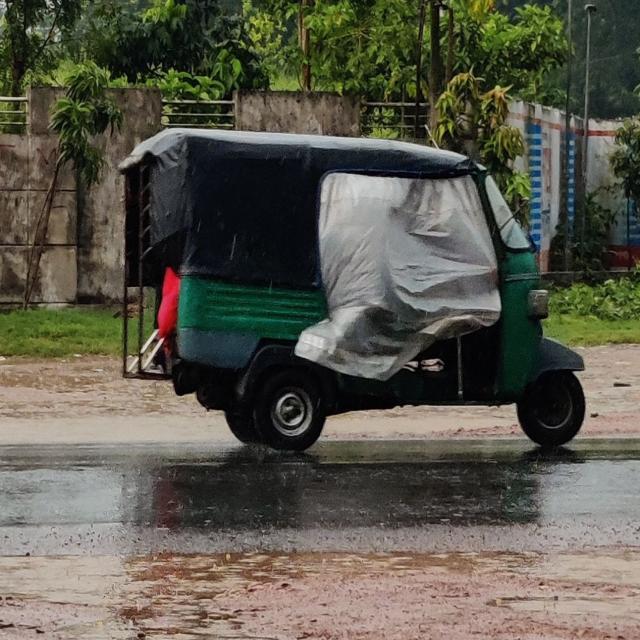CNG: (92, 107, 609, 484)
